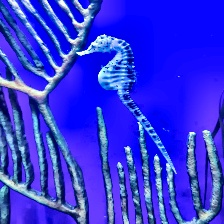seahorse: (76, 29, 185, 223)
